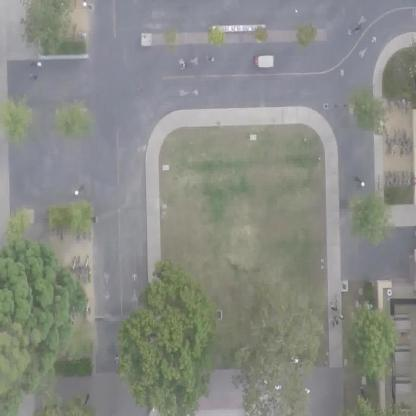Bicyclist: (347, 20, 369, 43), (206, 53, 224, 66), (176, 58, 190, 74), (28, 68, 40, 82)
Car: (250, 54, 280, 68)
Pedestrian: (328, 298, 341, 310), (338, 310, 346, 322), (330, 316, 336, 330), (334, 316, 340, 327)
